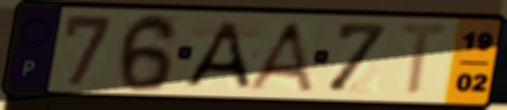6: (115, 10, 182, 95)
7: (329, 20, 391, 96), (60, 11, 117, 89)
A: (242, 20, 317, 94), (179, 19, 253, 91)
T: (395, 20, 455, 99)
